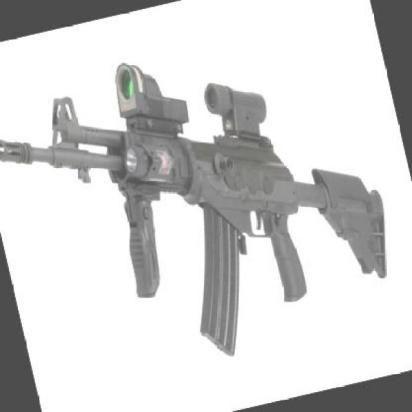Gun: (0, 66, 403, 327)
